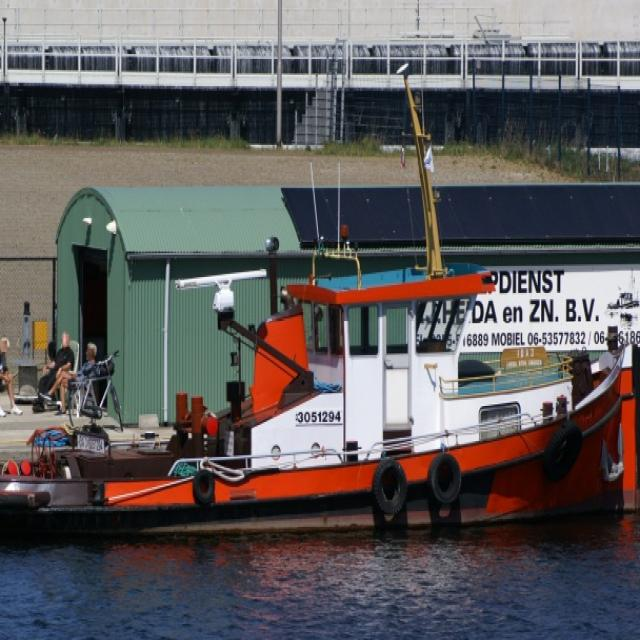tugboat: (1, 238, 640, 552)
